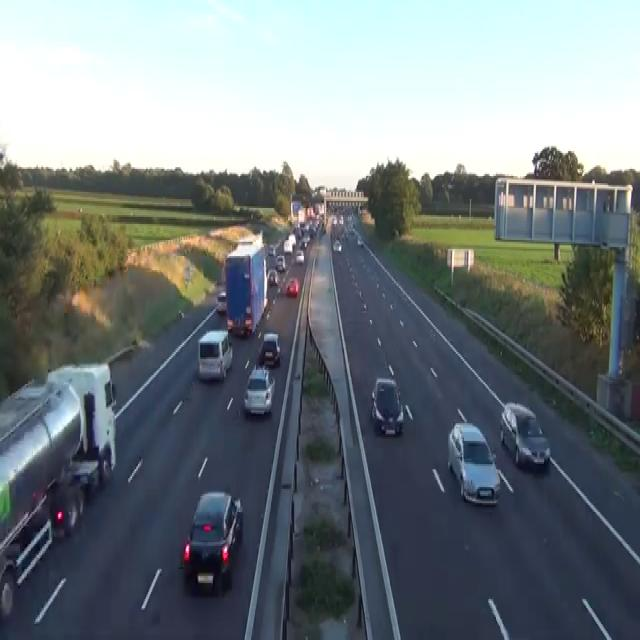Car: (181, 489, 243, 594), (447, 419, 500, 505), (499, 400, 550, 471), (49, 476, 85, 540), (371, 377, 404, 435), (197, 329, 233, 380), (243, 364, 275, 416), (257, 332, 280, 367), (285, 277, 299, 297), (215, 290, 226, 313), (244, 306, 252, 330), (268, 268, 278, 286), (275, 254, 285, 272), (332, 238, 342, 252), (295, 249, 304, 263), (283, 238, 292, 252), (288, 233, 296, 245), (308, 224, 316, 236), (299, 238, 307, 249), (268, 244, 275, 256), (357, 237, 364, 246), (338, 213, 343, 224), (321, 222, 326, 233), (178, 310, 184, 318), (348, 228, 354, 236), (389, 302, 394, 311), (332, 215, 337, 224)
Truck: (0, 359, 117, 619), (224, 233, 268, 336)
